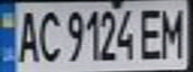1: (81, 6, 100, 62)
2: (97, 6, 118, 62)
4: (115, 6, 139, 61)
9: (60, 7, 84, 62)
A: (12, 7, 42, 63)
C: (33, 6, 63, 63)
E: (136, 4, 166, 61)
M: (157, 3, 190, 60)
